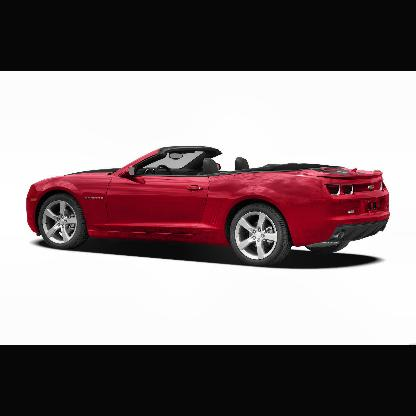Chevrolet Camaro Convertible 2012: (27, 146, 392, 266)
